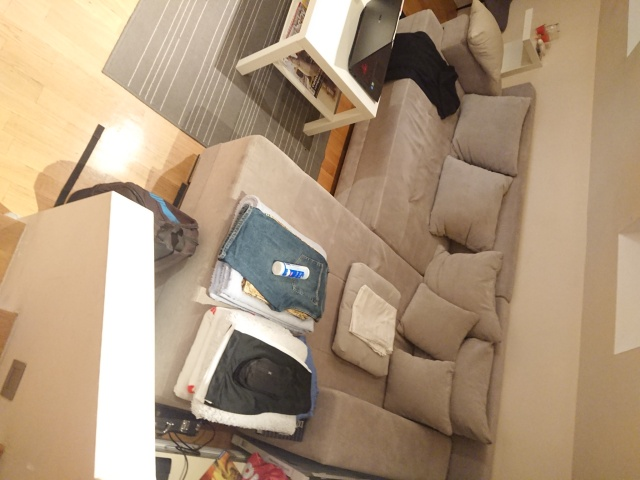Solana Pag Fine Sea Salt 250g: (270, 259, 312, 282)
